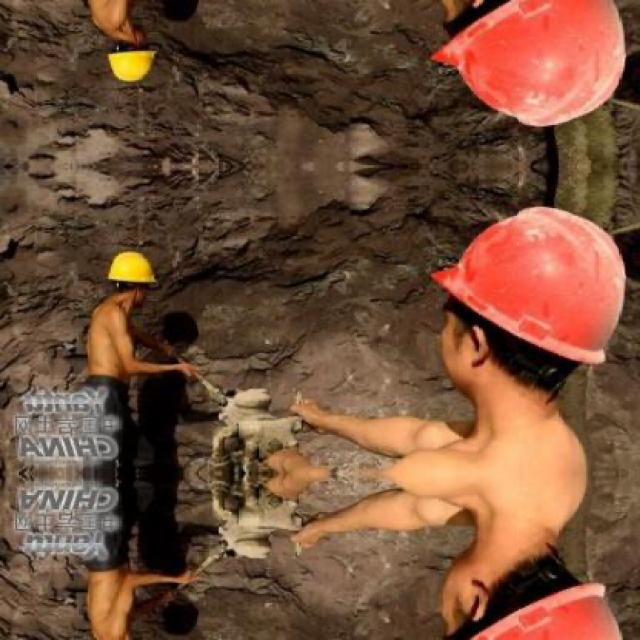helmet: (394, 196, 617, 449), (394, 498, 618, 639), (394, 0, 618, 139), (101, 244, 154, 312), (101, 22, 154, 90)
